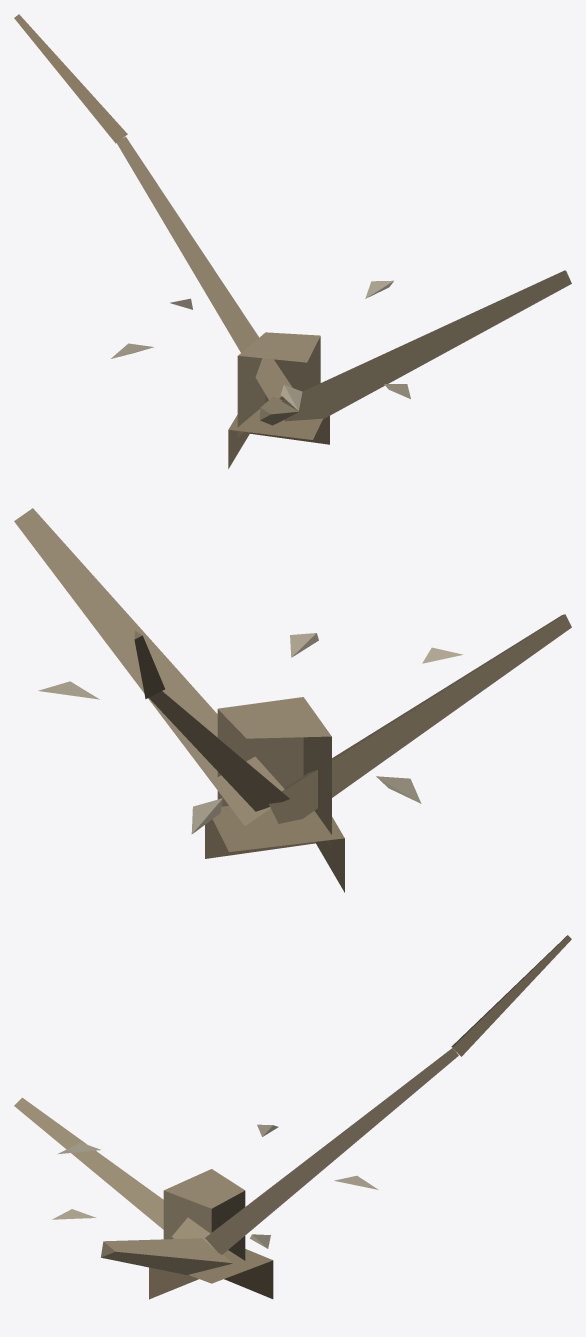
File: shu.chuilui@withered__winter.glb
The picture shows the model from 3 angles, top to bottom: view 1: azimuth 30°, elevation 25°; view 2: azimuth 150°, elevation 25°; view 3: azimuth 270°, elevation 25°; orthographic projection. The views are drawn at different scales.
Visible parts, largest first — view 1: shu.chuilui@withered__winter; view 2: shu.chuilui@withered__winter; view 3: shu.chuilui@withered__winter.
Boxes of the visible parts, <box> form: shu.chuilui@withered__winter: <box>14,14,571,468</box>; shu.chuilui@withered__winter: <box>14,508,571,892</box>; shu.chuilui@withered__winter: <box>14,935,571,1299</box>.
Bounding box in the file's own units: 4.7 × 3.94 × 6.13.
